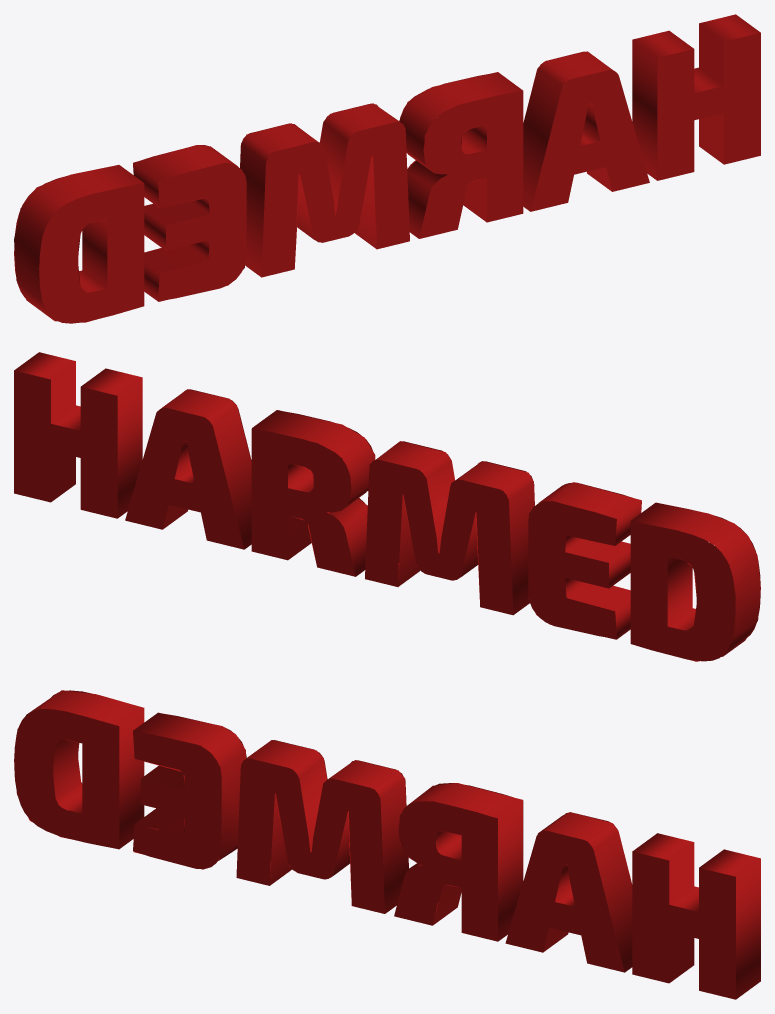
File: harmed.fbx
The picture shows the model from 3 angles, top to bottom: view 1: azimuth 30°, elevation 25°; view 2: azimuth 150°, elevation 25°; view 3: azimuth 330°, elevation 25°; orthographic projection.
Parts seen in each view (by area): view 1: Text; view 2: Text; view 3: Text.
Boxes of the visible parts, left/top/right/bottom form: Text: left=14, top=14, right=760, bottom=323; Text: left=14, top=352, right=760, bottom=661; Text: left=14, top=690, right=760, bottom=999.
Size of the model in its own units: 13.28 by 2.23 by 0.8.
